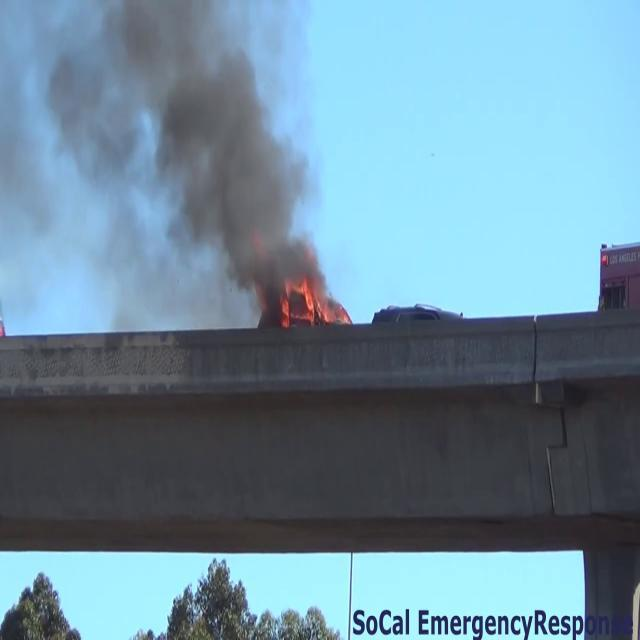Fire: (280, 273, 334, 327)
Smoke: (2, 0, 330, 310)
